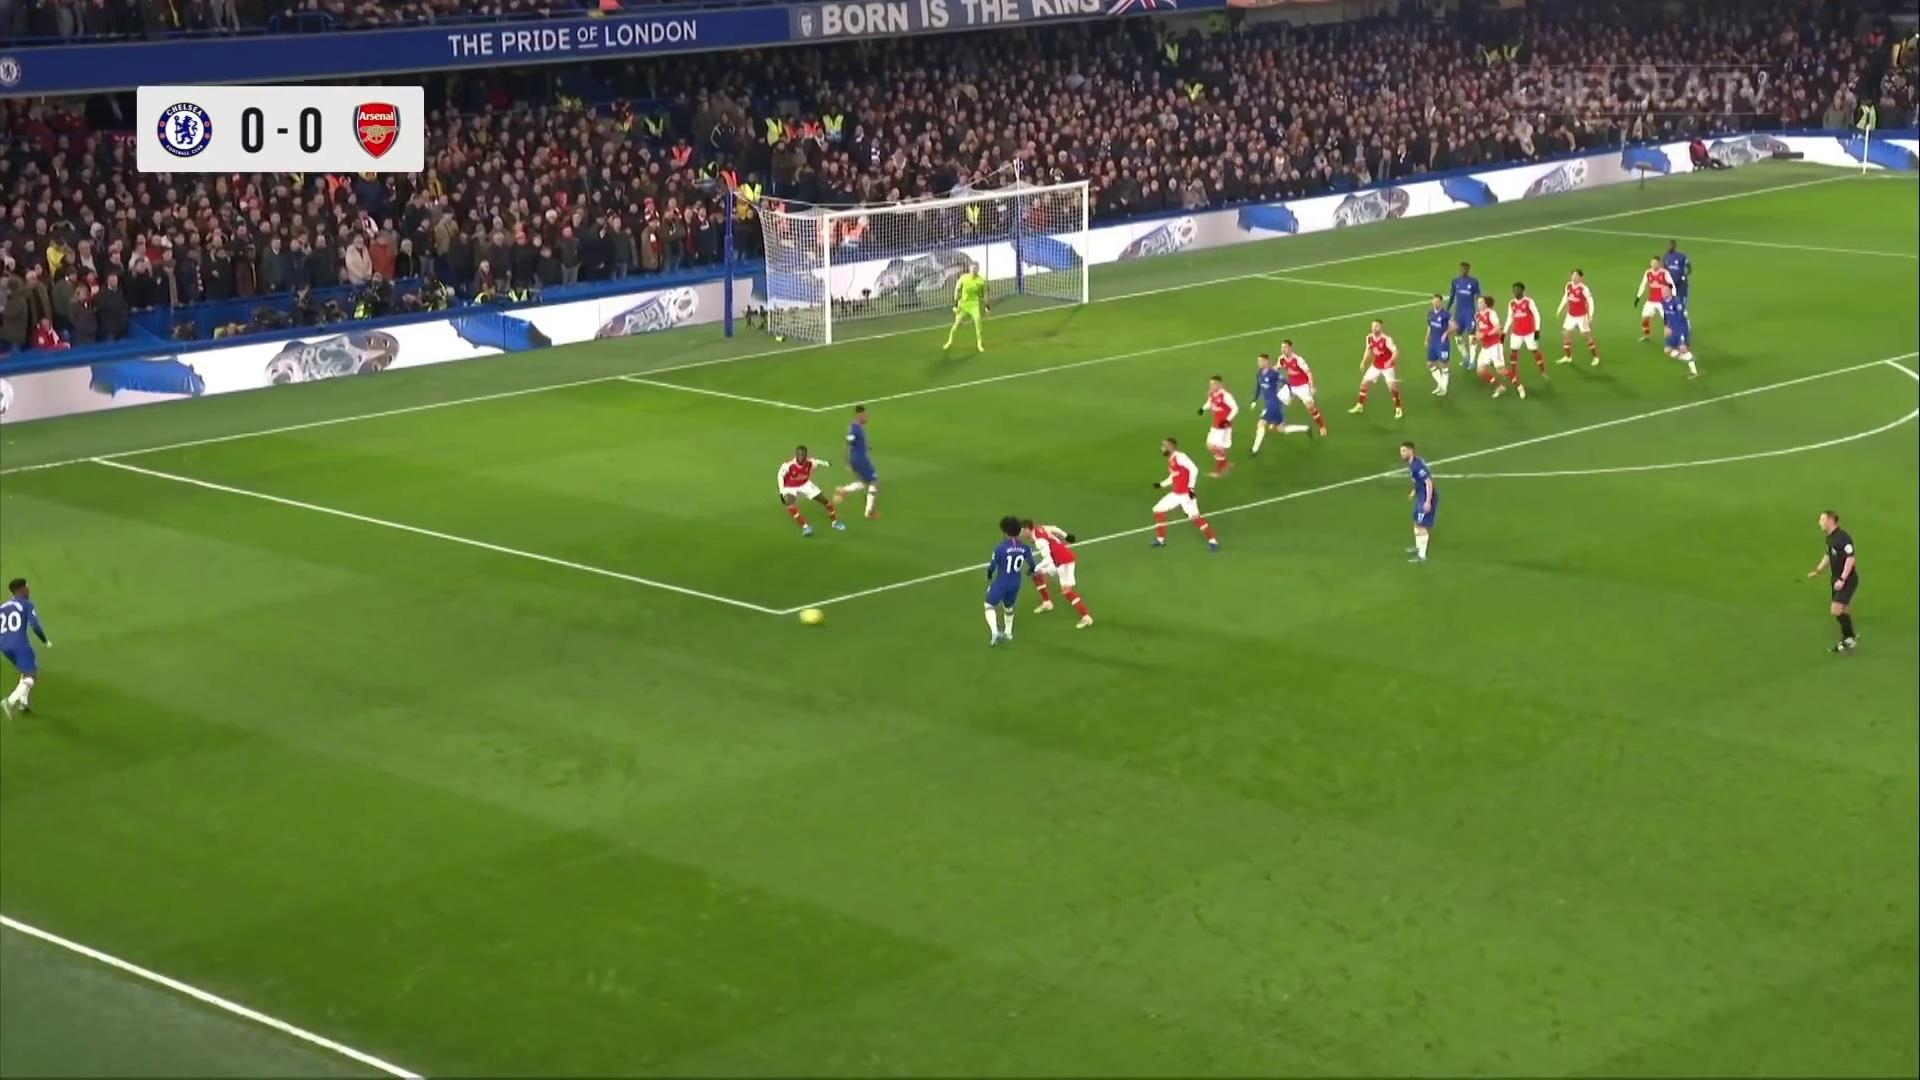ball: (800, 605, 827, 629)
